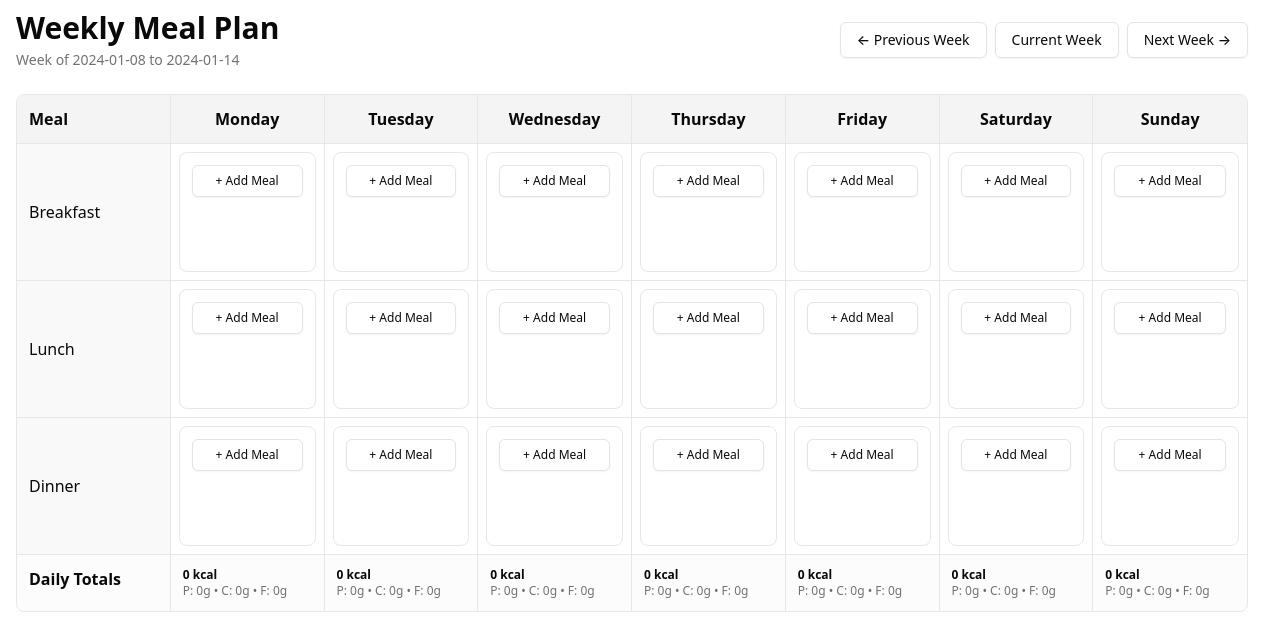
Test: WeeklyMealPlanner › Week Navigation › navigates to previous week when clicking Previous Week button
Expected: the text "Week of 2024-01-08 to 2024-01-14" is shown, [16,50,240,69]
Click the button "← Previous Week": {"x": 913, "y": 40} [840,22,987,58]
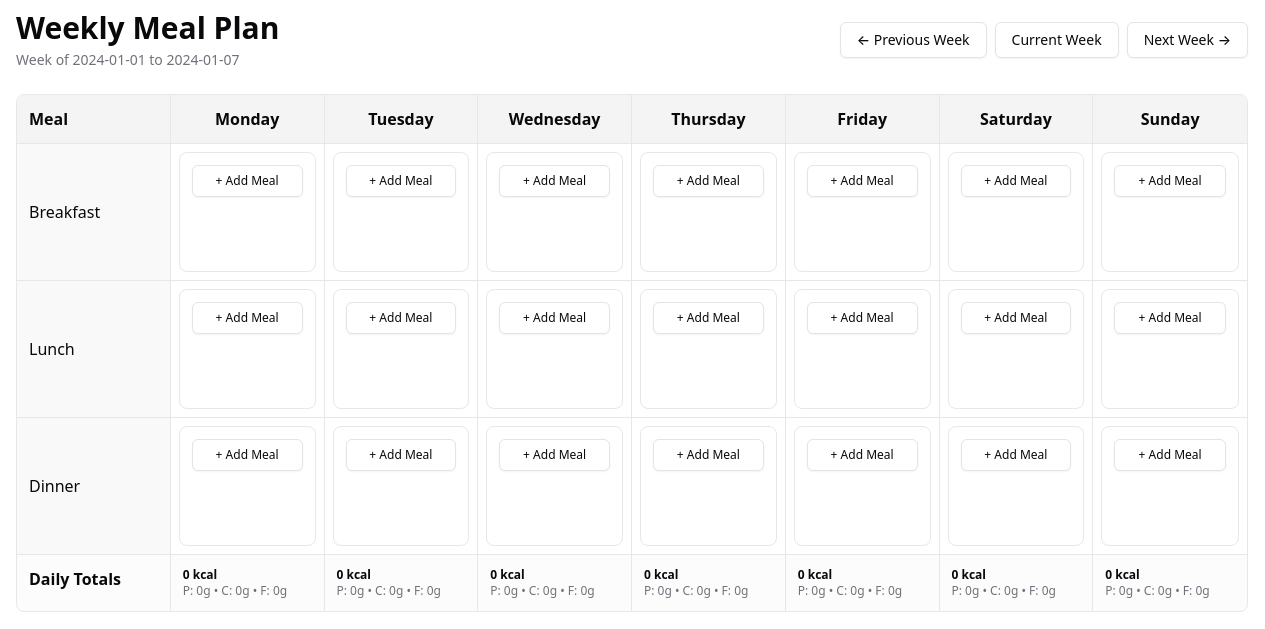
Result: the text "Week of 2024-01-01 to 2024-01-07" is shown at [16,50,240,69]
